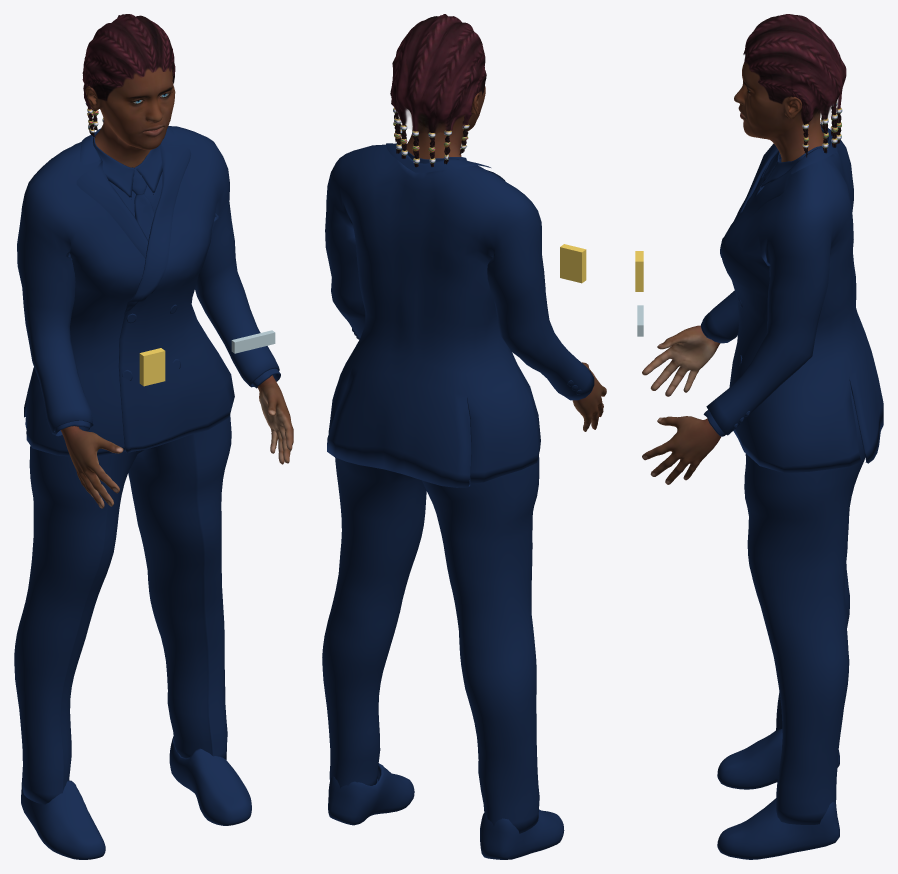
The model's file is polizia-donna.glb.
3 views of the same model, side by side, from view 1: azimuth 30°, elevation 25°; view 2: azimuth 150°, elevation 25°; view 3: azimuth 270°, elevation 25° (orthographic). The views are drawn at different scales.
Parts seen in each view (by area): view 1: Human.toigo_female_double-breasted_suit, Human, Human.shoes05, Human.elvs_braided_rows, Distintivo, Piastrina polizia; view 2: Human.toigo_female_double-breasted_suit, Human.elvs_braided_rows, Human.shoes05, Human, Distintivo; view 3: Human.toigo_female_double-breasted_suit, Human, Human.elvs_braided_rows, Human.shoes05.
Boxes of the visible parts, x1,y1,x2,y2 form: Human.toigo_female_double-breasted_suit: (14,126,280,804); Human: (60,67,293,508); Human.shoes05: (21,736,251,859); Human.elvs_braided_rows: (82,14,175,137); Distintivo: (139,348,165,386); Piastrina polizia: (231,330,275,353); Human.toigo_female_double-breasted_suit: (322,143,594,833); Human.elvs_braided_rows: (390,14,486,167); Human.shoes05: (328,763,564,859); Human: (406,86,606,431); Distintivo: (560,244,586,283); Human.toigo_female_double-breasted_suit: (701,124,883,824); Human: (642,62,823,484); Human.elvs_braided_rows: (743,14,846,157); Human.shoes05: (717,729,839,859).
Bounding box in the file's own units: 0.5029 × 1.7 × 0.4778.
Materials: 14 (10 with a texture image).
